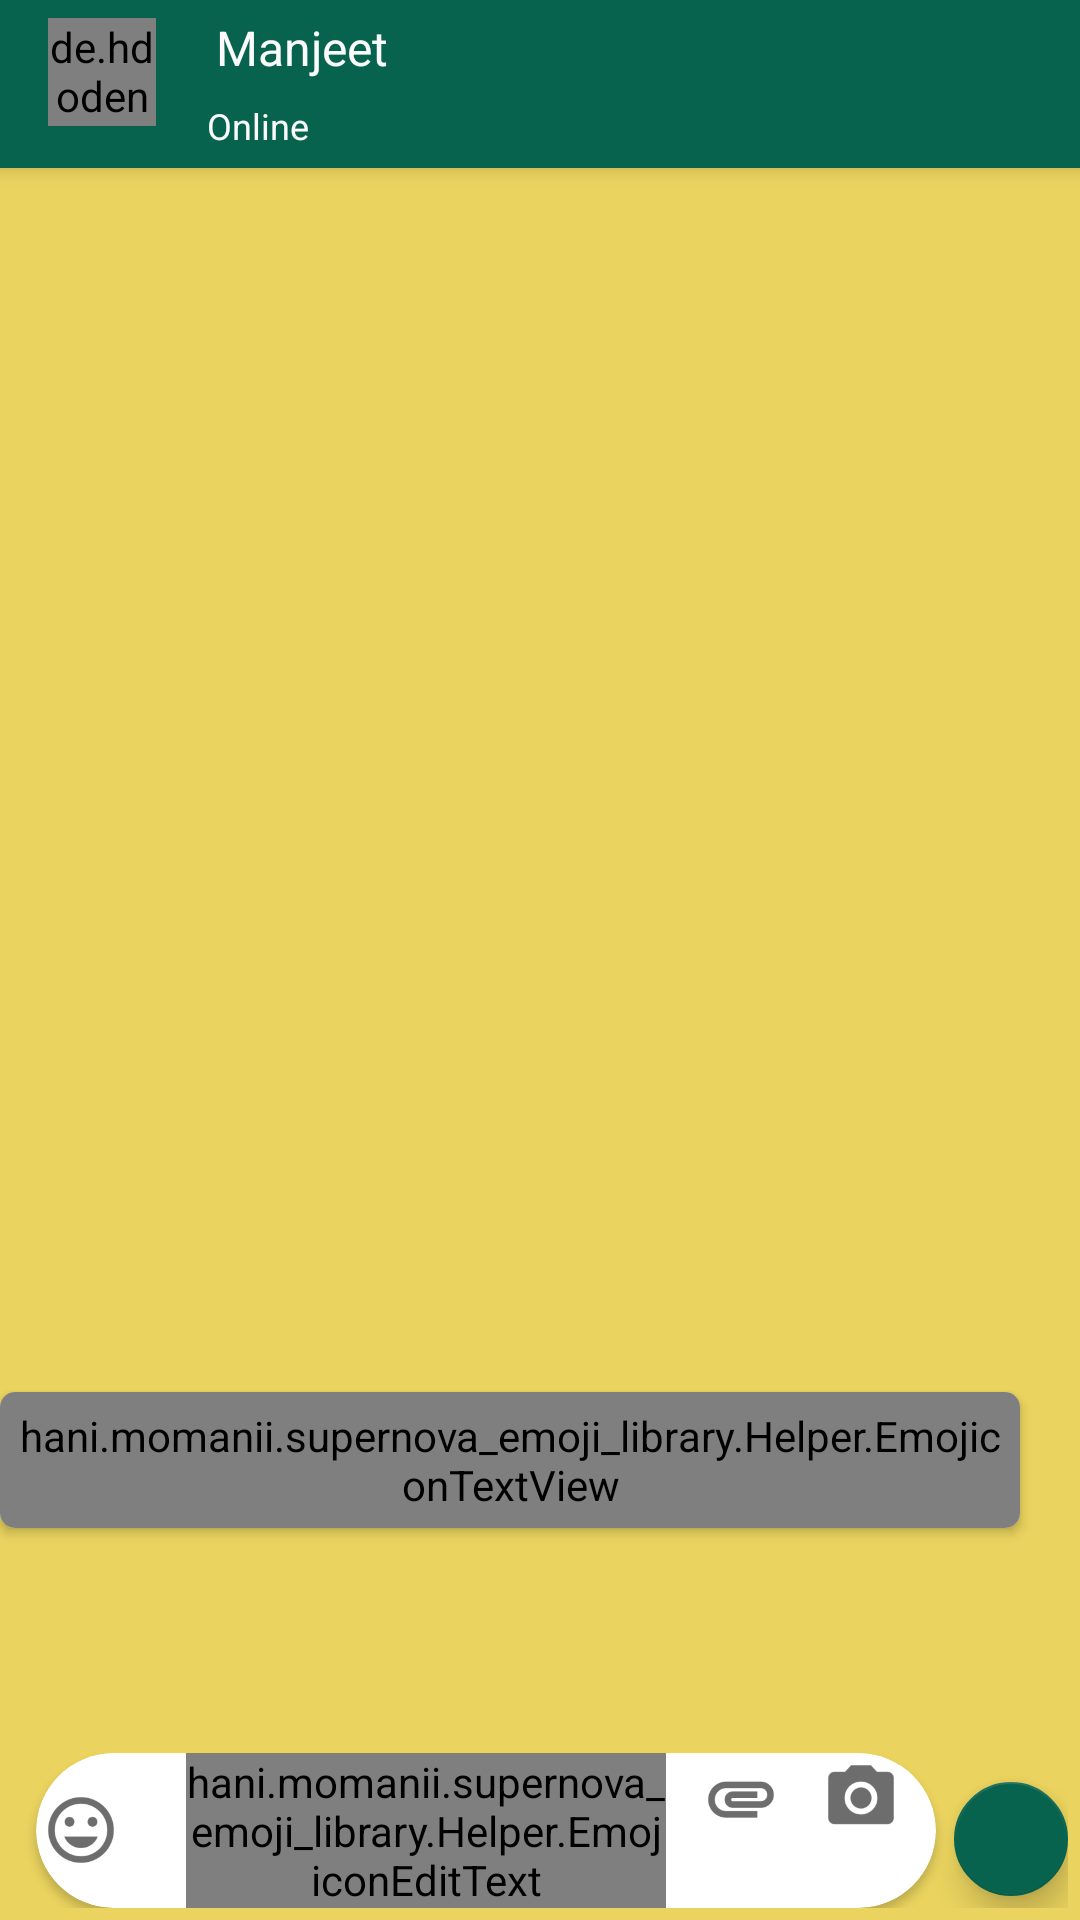

Point at icon controls on the screen. Image size 1080w x 1920h, points as (x,y).
attach: (741,1799)
camgrey: (861,1795)
